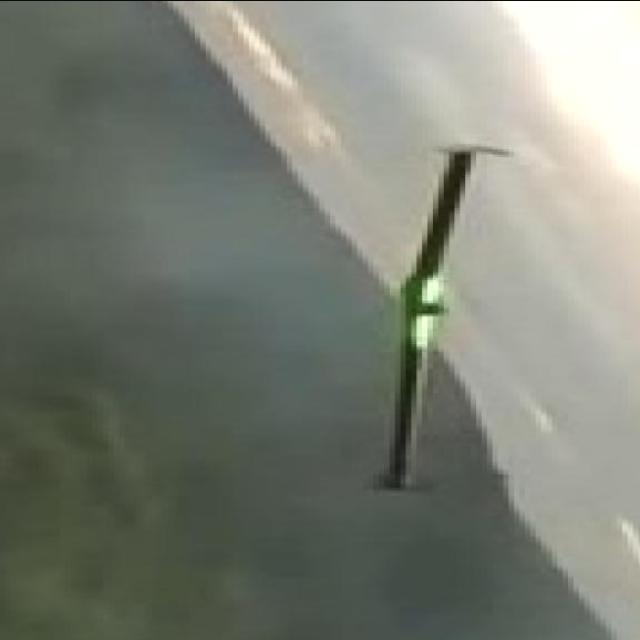plane: (371, 143, 516, 496)
